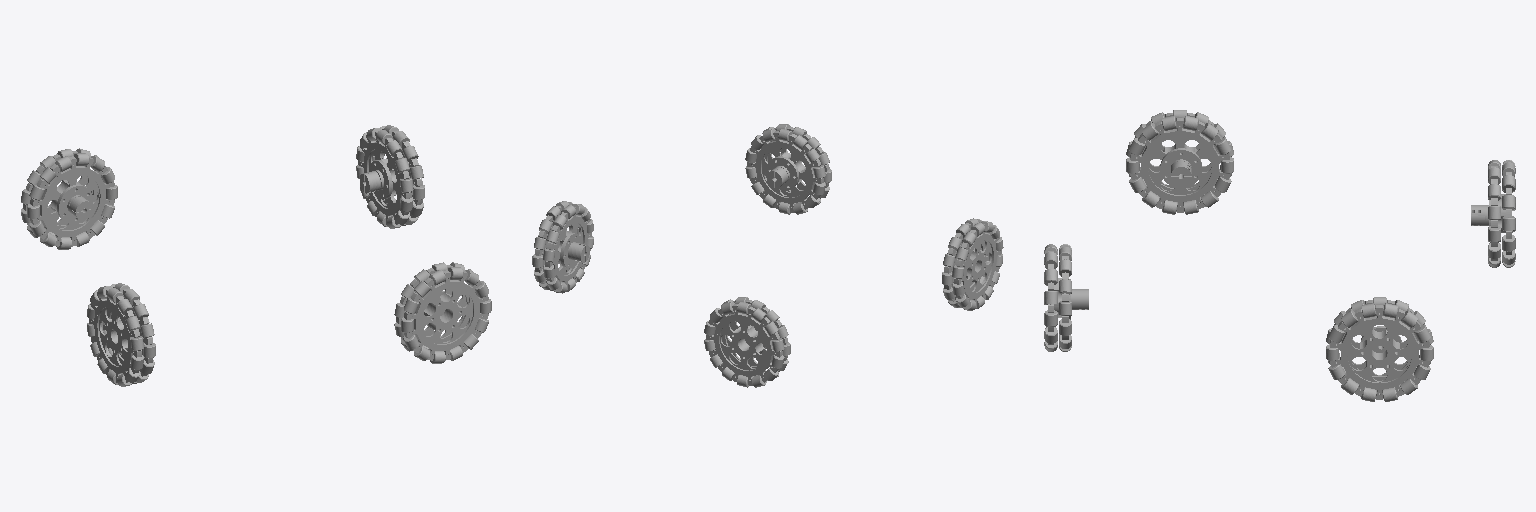
The robot description file, URDF, robot "testbot":
<?xml version="1.0" ?>
<!-- =================================================================================== -->
<!-- |    This document was autogenerated by xacro from testbot.xacro                  | -->
<!-- |    EDITING THIS FILE BY HAND IS NOT RECOMMENDED                                 | -->
<!-- =================================================================================== -->
<robot name="testbot">
  <material name="silver">
    <color rgba="0.700 0.700 0.700 1.000"/>
  </material>
  <transmission name="Rev1_tran">
    <type>transmission_interface/SimpleTransmission</type>
    <joint name="Rev1">
      <hardwareInterface>hardware_interface/EffortJointInterface</hardwareInterface>
    </joint>
    <actuator name="Rev1_actr">
      <hardwareInterface>hardware_interface/EffortJointInterface</hardwareInterface>
      <mechanicalReduction>1</mechanicalReduction>
    </actuator>
  </transmission>
  <transmission name="Rev2_tran">
    <type>transmission_interface/SimpleTransmission</type>
    <joint name="Rev2">
      <hardwareInterface>hardware_interface/EffortJointInterface</hardwareInterface>
    </joint>
    <actuator name="Rev2_actr">
      <hardwareInterface>hardware_interface/EffortJointInterface</hardwareInterface>
      <mechanicalReduction>1</mechanicalReduction>
    </actuator>
  </transmission>
  <transmission name="Rev3_tran">
    <type>transmission_interface/SimpleTransmission</type>
    <joint name="Rev3">
      <hardwareInterface>hardware_interface/EffortJointInterface</hardwareInterface>
    </joint>
    <actuator name="Rev3_actr">
      <hardwareInterface>hardware_interface/EffortJointInterface</hardwareInterface>
      <mechanicalReduction>1</mechanicalReduction>
    </actuator>
  </transmission>
  <transmission name="Rev4_tran">
    <type>transmission_interface/SimpleTransmission</type>
    <joint name="Rev4">
      <hardwareInterface>hardware_interface/EffortJointInterface</hardwareInterface>
    </joint>
    <actuator name="Rev4_actr">
      <hardwareInterface>hardware_interface/EffortJointInterface</hardwareInterface>
      <mechanicalReduction>1</mechanicalReduction>
    </actuator>
  </transmission>
  <gazebo>
    <plugin filename="libgazebo_ros_control.so" name="control"/>
  </gazebo>
  <gazebo reference="base_link">
    <material>Gazebo/Silver</material>
    <mu1>0.2</mu1>
    <mu2>0.2</mu2>
    <selfCollide>true</selfCollide>
    <gravity>true</gravity>
  </gazebo>
  <gazebo reference="motor_planetary_p2_v1_2">
    <material>Gazebo/Silver</material>
    <mu1>0.2</mu1>
    <mu2>0.2</mu2>
    <selfCollide>true</selfCollide>
  </gazebo>
  <gazebo reference="motor_planetary_p2_v1_4">
    <material>Gazebo/Silver</material>
    <mu1>0.2</mu1>
    <mu2>0.2</mu2>
    <selfCollide>true</selfCollide>
  </gazebo>
  <gazebo reference="motor_planetary_p2_v1_1">
    <material>Gazebo/Silver</material>
    <mu1>0.2</mu1>
    <mu2>0.2</mu2>
    <selfCollide>true</selfCollide>
  </gazebo>
  <gazebo reference="motor_planetary_p2_v1_3">
    <material>Gazebo/Silver</material>
    <mu1>0.2</mu1>
    <mu2>0.2</mu2>
    <selfCollide>true</selfCollide>
  </gazebo>
  <link name="base_link">
    <inertial>
      <origin rpy="0 0 0" xyz="0.0 0.0 0.0"/>
      <mass value="0.0"/>
      <inertia ixx="0.0" ixy="0.0" ixz="0.0" iyy="0.0" iyz="0.0" izz="0.0"/>
    </inertial>
    <visual>
      <origin rpy="0 0 0" xyz="0 0 0"/>
      <geometry>
        <mesh filename="package://description/meshes/base_link.stl" scale="0.001 0.001 0.001"/>
      </geometry>
      <material name="silver"/>
    </visual>
    <collision>
      <origin rpy="0 0 0" xyz="0 0 0"/>
      <geometry>
        <mesh filename="package://description/meshes/base_link.stl" scale="0.001 0.001 0.001"/>
      </geometry>
    </collision>
  </link>
  <link name="motor_planetary_p2_v1_2">
    <inertial>
      <origin rpy="0 0 0" xyz="0.04118987844170208 -8.108254794692016e-06 0.000250596805274686"/>
      <mass value="2.3755553699222616"/>
      <inertia ixx="0.007233" ixy="-1e-06" ixz="1.2e-05" iyy="0.003977" iyz="0.0" izz="0.003976"/>
    </inertial>
    <visual>
      <origin rpy="0 0 0" xyz="-0.756732 -0.151207 -0.067818"/>
      <geometry>
        <mesh filename="package://description/meshes/motor_planetary_p2_v1_2.stl" scale="0.001 0.001 0.001"/>
      </geometry>
      <material name="silver"/>
    </visual>
    <collision>
      <origin rpy="0 0 0" xyz="-0.756732 -0.151207 -0.067818"/>
      <geometry>
        <mesh filename="package://description/meshes/motor_planetary_p2_v1_2.stl" scale="0.001 0.001 0.001"/>
      </geometry>
    </collision>
  </link>
  <link name="motor_planetary_p2_v1_4">
    <inertial>
      <origin rpy="0 0 0" xyz="0.0001313422839553935 0.041189495140773136 -0.00020947496986596648"/>
      <mass value="2.3755553699222616"/>
      <inertia ixx="0.003977" ixy="6e-06" ixz="1e-06" iyy="0.007233" iyz="-1e-05" izz="0.003976"/>
    </inertial>
    <visual>
      <origin rpy="0 0 0" xyz="-0.350608 -0.27833 -0.067818"/>
      <geometry>
        <mesh filename="package://description/meshes/motor_planetary_p2_v1_4.stl" scale="0.001 0.001 0.001"/>
      </geometry>
      <material name="silver"/>
    </visual>
    <collision>
      <origin rpy="0 0 0" xyz="-0.350608 -0.27833 -0.067818"/>
      <geometry>
        <mesh filename="package://description/meshes/motor_planetary_p2_v1_4.stl" scale="0.001 0.001 0.001"/>
      </geometry>
    </collision>
  </link>
  <link name="motor_planetary_p2_v1_1">
    <inertial>
      <origin rpy="0 0 0" xyz="-0.04118998789165343 0.00021759055173636854 0.00012263260280097332"/>
      <mass value="2.3755553699222616"/>
      <inertia ixx="0.007233" ixy="-1e-05" ixz="-5e-06" iyy="0.003976" iyz="-0.0" izz="0.003977"/>
    </inertial>
    <visual>
      <origin rpy="0 0 0" xyz="-0.223486 0.127794 -0.067818"/>
      <geometry>
        <mesh filename="package://description/meshes/motor_planetary_p2_v1_1.stl" scale="0.001 0.001 0.001"/>
      </geometry>
      <material name="silver"/>
    </visual>
    <collision>
      <origin rpy="0 0 0" xyz="-0.223486 0.127794 -0.067818"/>
      <geometry>
        <mesh filename="package://description/meshes/motor_planetary_p2_v1_1.stl" scale="0.001 0.001 0.001"/>
      </geometry>
    </collision>
  </link>
  <link name="motor_planetary_p2_v1_3">
    <inertial>
      <origin rpy="0 0 0" xyz="0.0002361733200544336 -0.04118941036184415 -7.71119074641502e-05"/>
      <mass value="2.3755553699222616"/>
      <inertia ixx="0.003976" ixy="-1.1e-05" ixz="0.0" iyy="0.007233" iyz="3e-06" izz="0.003977"/>
    </inertial>
    <visual>
      <origin rpy="0 0 0" xyz="-0.629609 0.254917 -0.067818"/>
      <geometry>
        <mesh filename="package://description/meshes/motor_planetary_p2_v1_3.stl" scale="0.001 0.001 0.001"/>
      </geometry>
      <material name="silver"/>
    </visual>
    <collision>
      <origin rpy="0 0 0" xyz="-0.629609 0.254917 -0.067818"/>
      <geometry>
        <mesh filename="package://description/meshes/motor_planetary_p2_v1_3.stl" scale="0.001 0.001 0.001"/>
      </geometry>
    </collision>
  </link>
  <joint name="Rev1" type="continuous">
    <origin rpy="0 0 0" xyz="0.756732 0.151207 0.067818"/>
    <parent link="base_link"/>
    <child link="motor_planetary_p2_v1_2"/>
    <axis xyz="-1.0 -0.0 -5.9e-05"/>
  </joint>
  <joint name="Rev2" type="continuous">
    <origin rpy="0 0 0" xyz="0.350608 0.27833 0.067818"/>
    <parent link="base_link"/>
    <child link="motor_planetary_p2_v1_4"/>
    <axis xyz="0.0 -1.0 -5.9e-05"/>
  </joint>
  <joint name="Rev3" type="continuous">
    <origin rpy="0 0 0" xyz="0.223486 -0.127794 0.067818"/>
    <parent link="base_link"/>
    <child link="motor_planetary_p2_v1_1"/>
    <axis xyz="1.0 0.0 -5.9e-05"/>
  </joint>
  <joint name="Rev4" type="continuous">
    <origin rpy="0 0 0" xyz="0.629609 -0.254917 0.067818"/>
    <parent link="base_link"/>
    <child link="motor_planetary_p2_v1_3"/>
    <axis xyz="-0.0 1.0 -5.9e-05"/>
  </joint>
</robot>

--- Render facts (derived) ---
Views: 3 orthographic renders of the robot side by side, from view 1: azimuth 30°, elevation 25°; view 2: azimuth 150°, elevation 25°; view 3: azimuth 270°, elevation 25°.
Robot: testbot — 5 links, 4 joints (4 continuous); root link base_link; default pose: all joints at 0.
Visible links, largest first — view 1: motor_planetary_p2_v1_4, motor_planetary_p2_v1_3, motor_planetary_p2_v1_1, motor_planetary_p2_v1_2; view 2: motor_planetary_p2_v1_3, motor_planetary_p2_v1_4, motor_planetary_p2_v1_1, motor_planetary_p2_v1_2; view 3: motor_planetary_p2_v1_1, motor_planetary_p2_v1_2, motor_planetary_p2_v1_4, motor_planetary_p2_v1_3.
Boxes of the visible links, left/top/right/bottom form: motor_planetary_p2_v1_4: left=21, top=148, right=117, bottom=249; motor_planetary_p2_v1_3: left=394, top=262, right=491, bottom=363; motor_planetary_p2_v1_1: left=87, top=283, right=155, bottom=386; motor_planetary_p2_v1_2: left=356, top=125, right=424, bottom=228; motor_planetary_p2_v1_3: left=745, top=124, right=831, bottom=214; motor_planetary_p2_v1_4: left=704, top=297, right=790, bottom=387; motor_planetary_p2_v1_1: left=942, top=218, right=1003, bottom=310; motor_planetary_p2_v1_2: left=532, top=201, right=593, bottom=293; motor_planetary_p2_v1_1: left=1126, top=110, right=1233, bottom=214; motor_planetary_p2_v1_2: left=1326, top=297, right=1433, bottom=401; motor_planetary_p2_v1_4: left=1471, top=160, right=1515, bottom=267; motor_planetary_p2_v1_3: left=1044, top=244, right=1088, bottom=351.
Bounding box of the posed robot: 0.6588 × 0.6588 × 0.1513 m (x, y, z).
Meshes: 5 distinct files referenced, 4 mesh visuals loaded (4 binary STL); not drawn: 1 (reference not matched to a file when rendering).